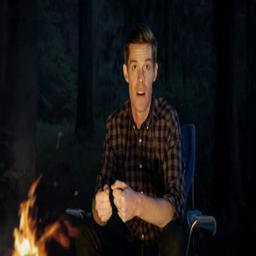fire: (9, 178, 77, 256)
